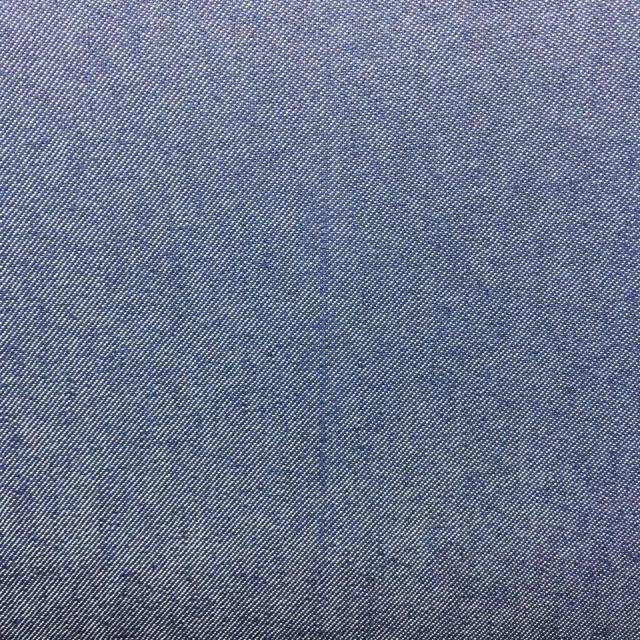Line: (315, 35, 331, 533)
